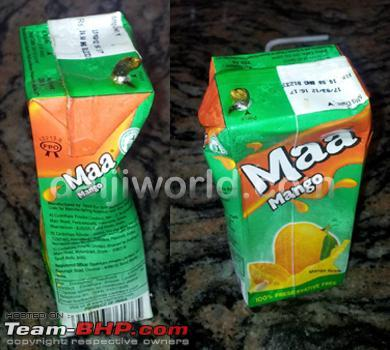cardboard: (198, 35, 371, 305), (19, 12, 153, 326)
